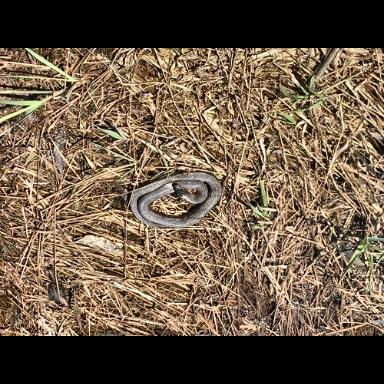snake: (118, 167, 232, 241)
